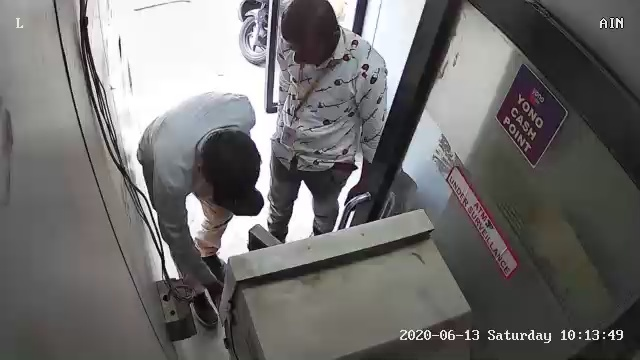open: (334, 2, 634, 357)
